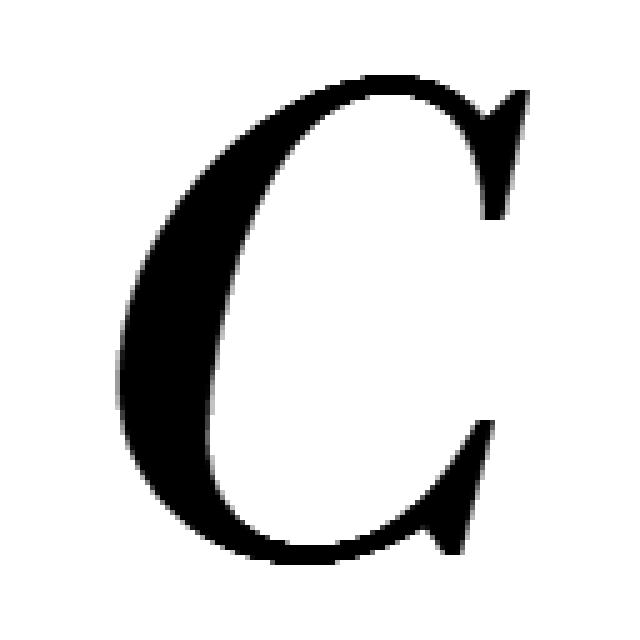C: (115, 75, 530, 575)
